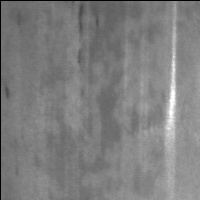scratches: (165, 2, 180, 165)
